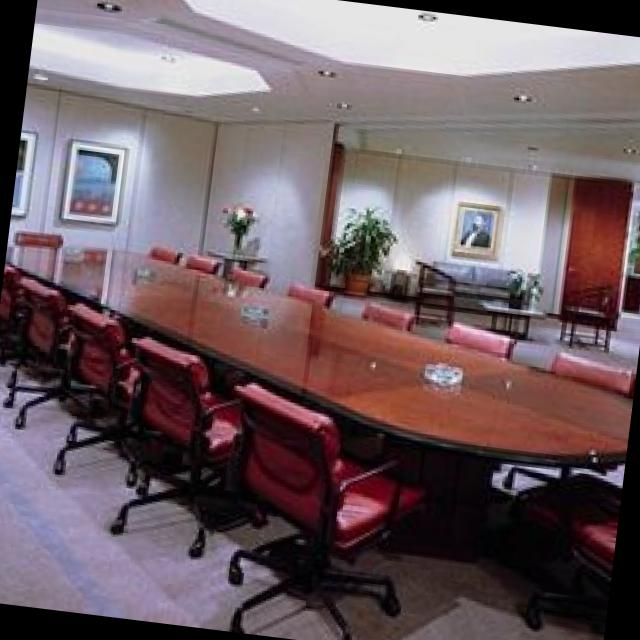ashtray: (431, 359, 466, 381), (245, 303, 273, 318)
bouquet: (227, 204, 257, 250)
ceiling beam: (32, 0, 640, 120)
chair: (553, 352, 636, 389), (449, 322, 517, 354), (366, 301, 419, 329), (293, 282, 336, 301), (186, 254, 224, 272), (235, 267, 268, 286)
chair -occluded-: (231, 380, 423, 638), (114, 337, 265, 553), (58, 306, 139, 481), (7, 274, 90, 423), (563, 281, 619, 346)
chair seat: (518, 473, 622, 632)
conference table: (11, 240, 633, 459)
painting crop: (66, 136, 130, 222), (457, 202, 503, 256)
plant -x: (324, 206, 398, 291), (508, 263, 546, 304)
small table part: (474, 294, 549, 331), (211, 241, 268, 255)
sofa bed: (430, 259, 529, 300)
